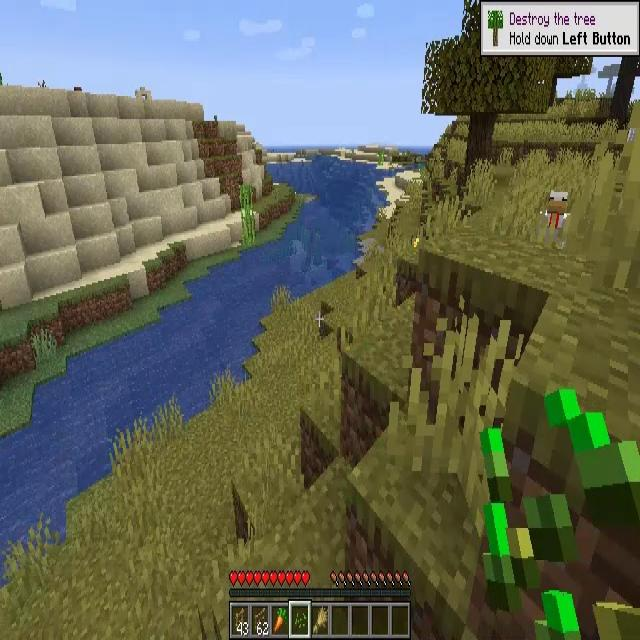duck: (540, 191, 570, 251)
